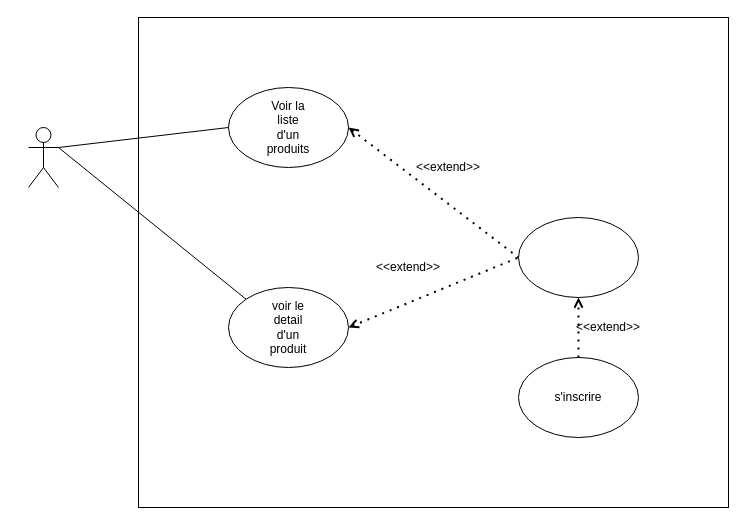
The diagram is 746 pixels wide and 525 high, and some of its shapes have lost their labels. Each missing label, with the centre of its shape:
s'authentifier: the point at 578,257
Utilisateur: the point at 43,157
